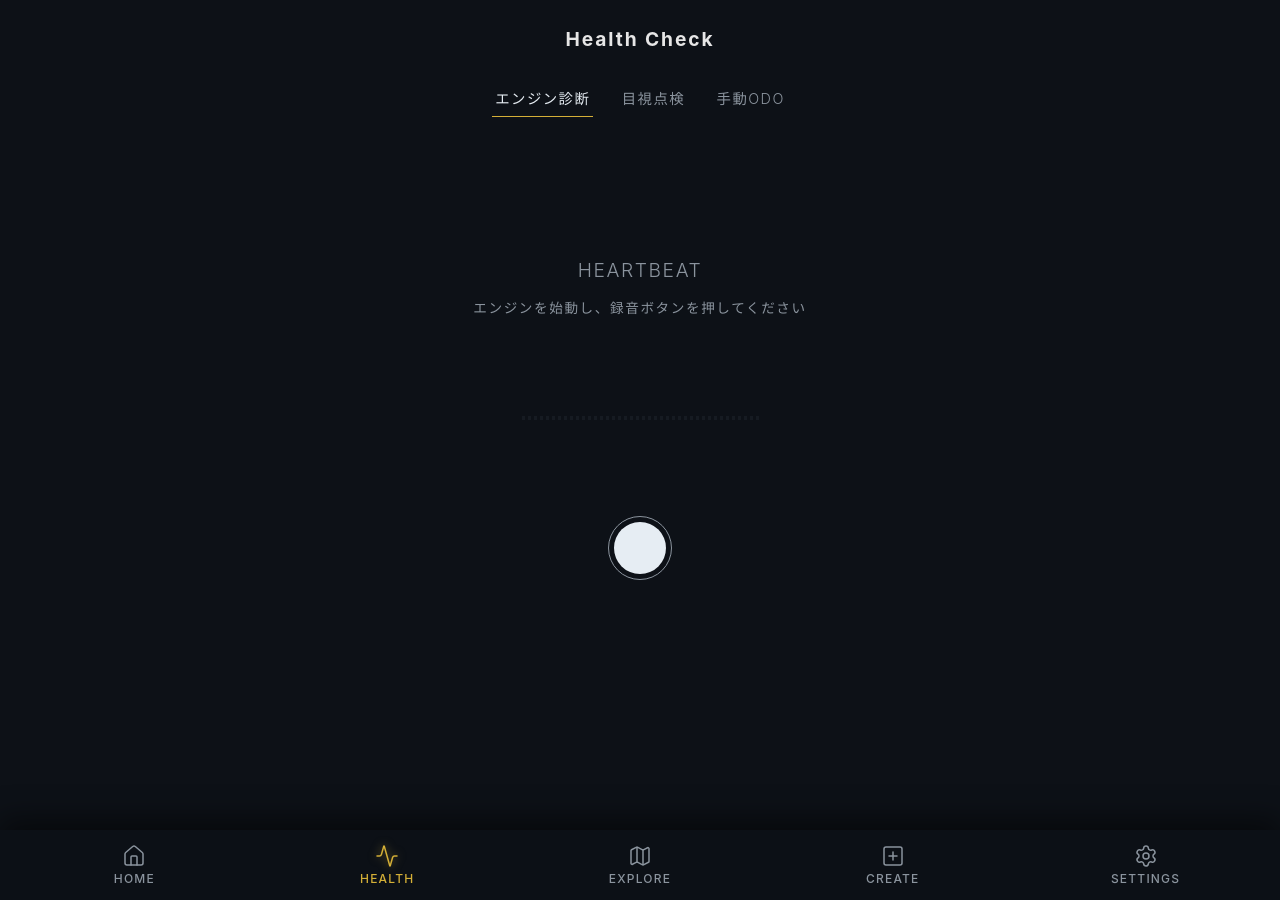
Test: HealthPage › HP-UT-018 ODO 更新正常系: 更新API成功時に結果と残距離を表示する
The image size is (1280, 900).
Click the button "手動ODO" at {"x": 751, "y": 98}, box [713,79,788,117]
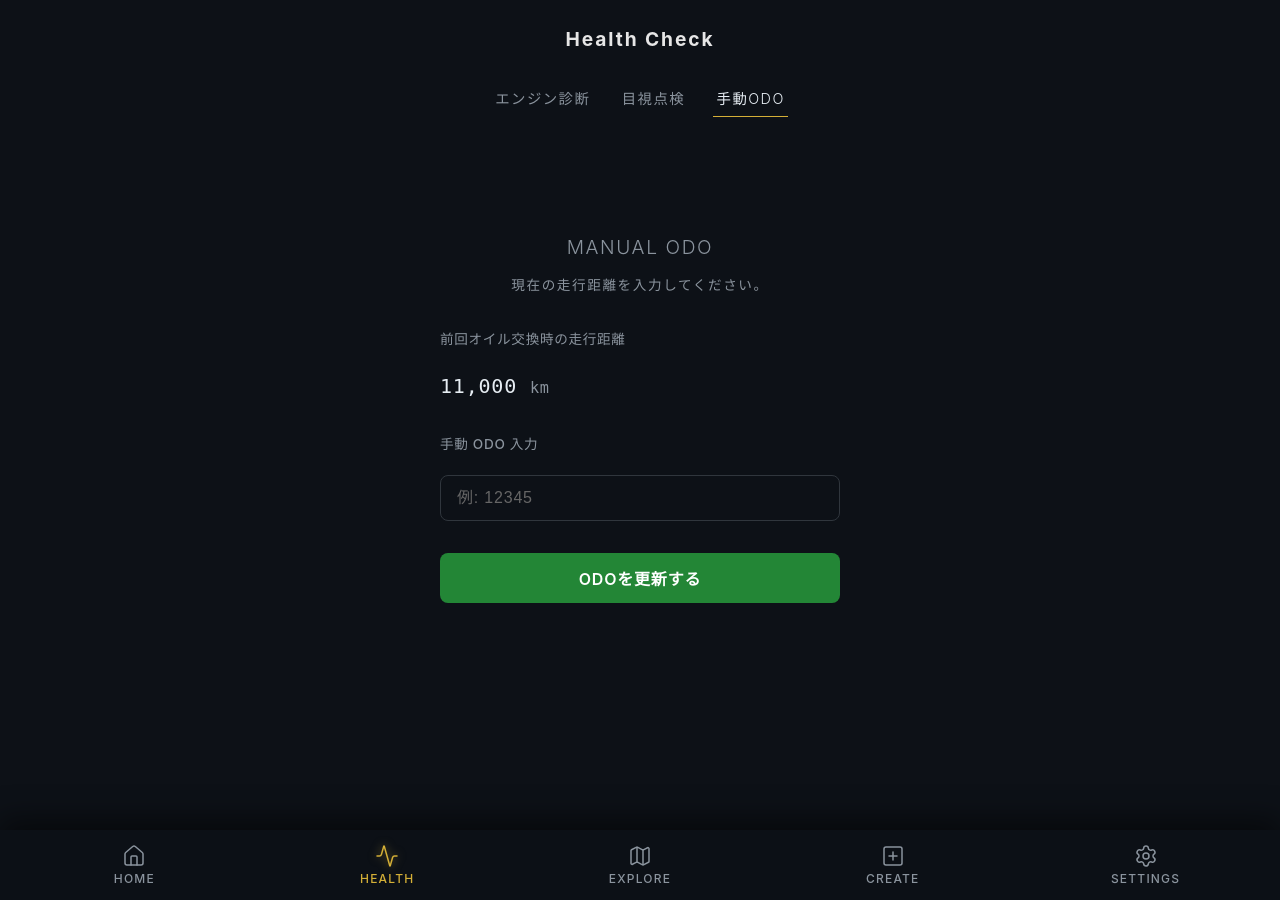
Type "54321" into the number field with placeholder "例: 12345" at {"x": 640, "y": 498}, box [440,475,840,521]
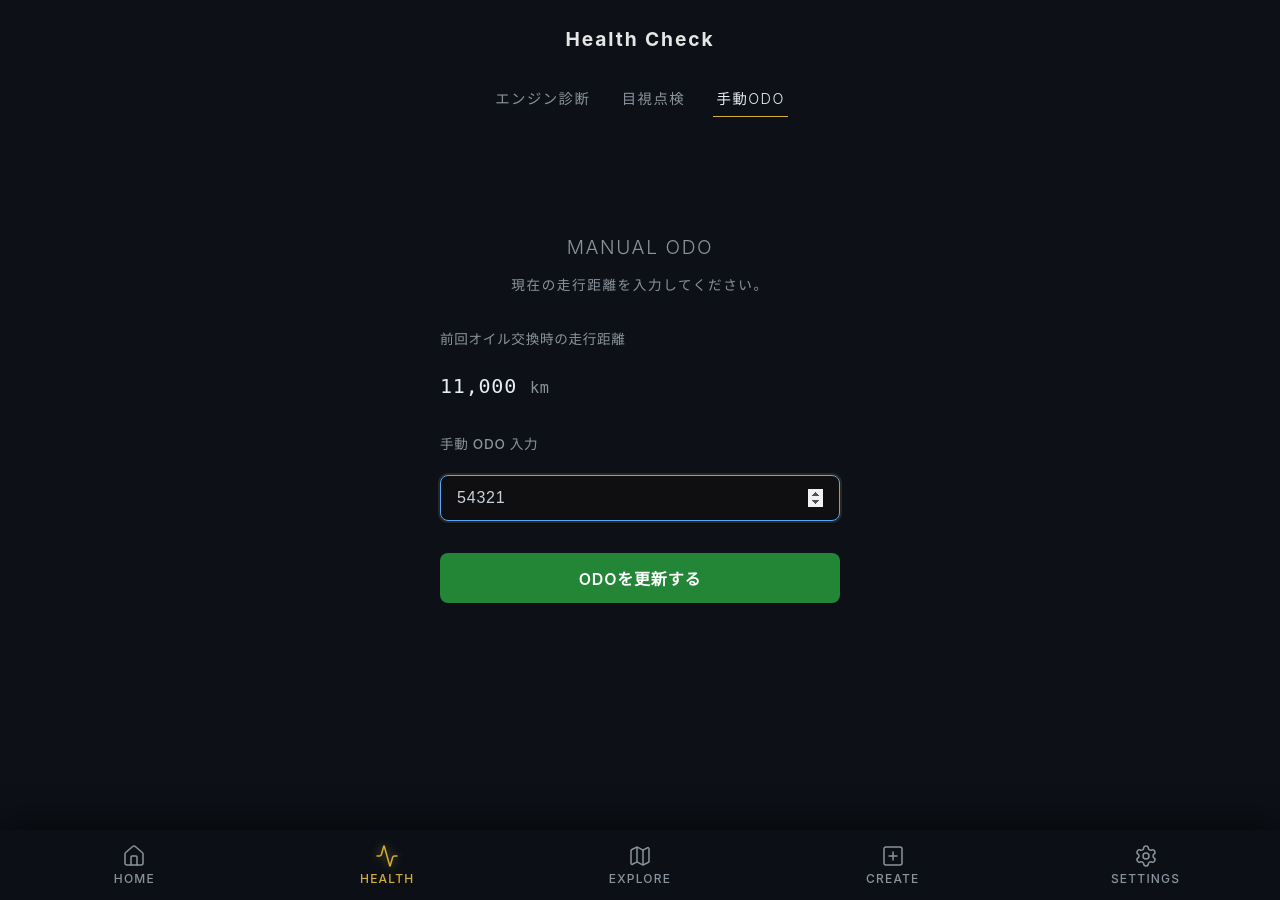
Click the button "ODOを更新する" at {"x": 640, "y": 578}, box [440,553,840,603]
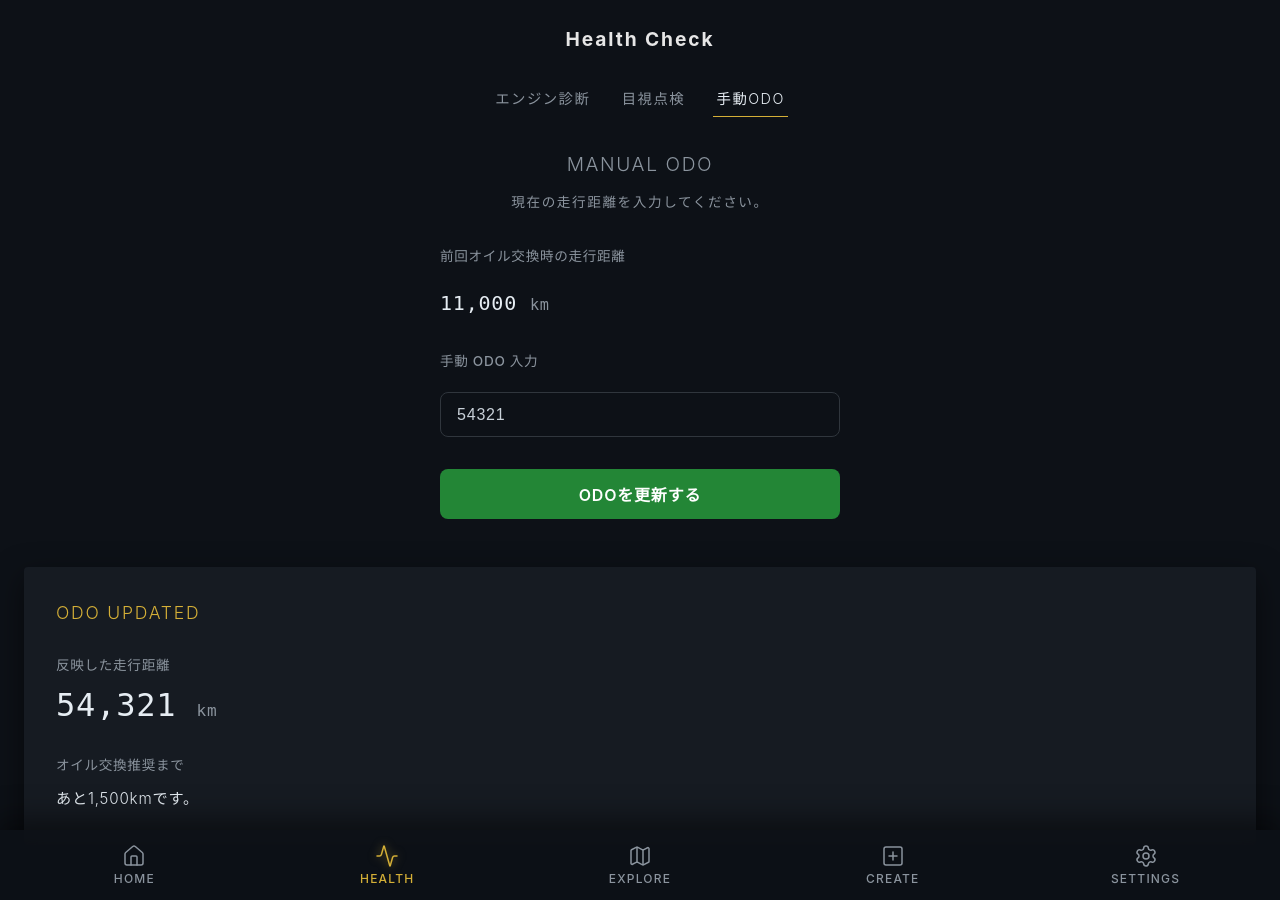
Check: the heading "ODO UPDATED" is shown, box [56,602,200,624]
Check: the text "54,321 km" is shown, box [56,686,217,724]
Check: the text "あと1,500kmです。" is shown, box [56,789,199,808]
